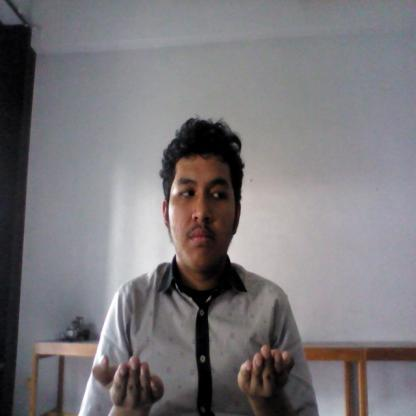Apa: (90, 340, 296, 416)
